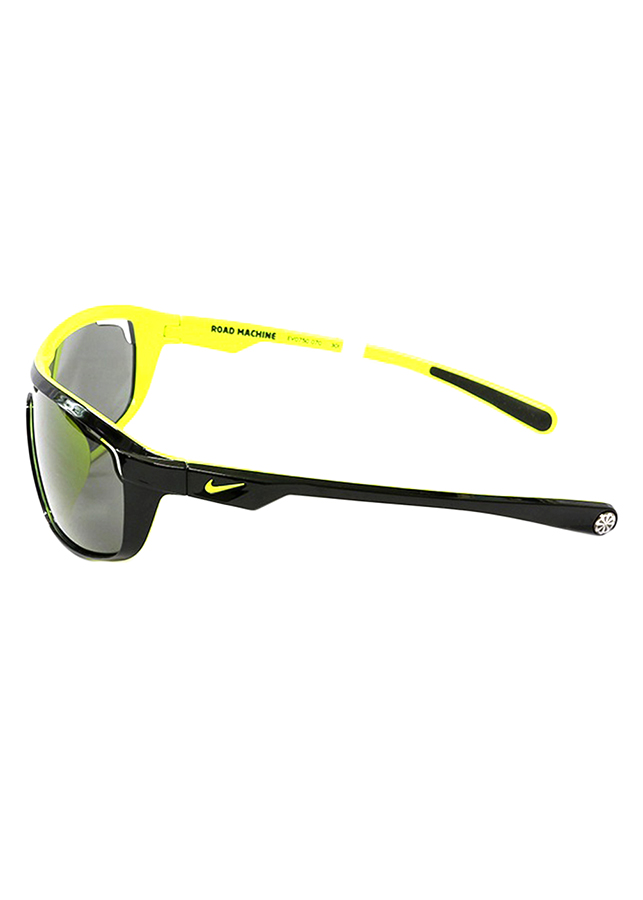Nike: (201, 473, 250, 498)
